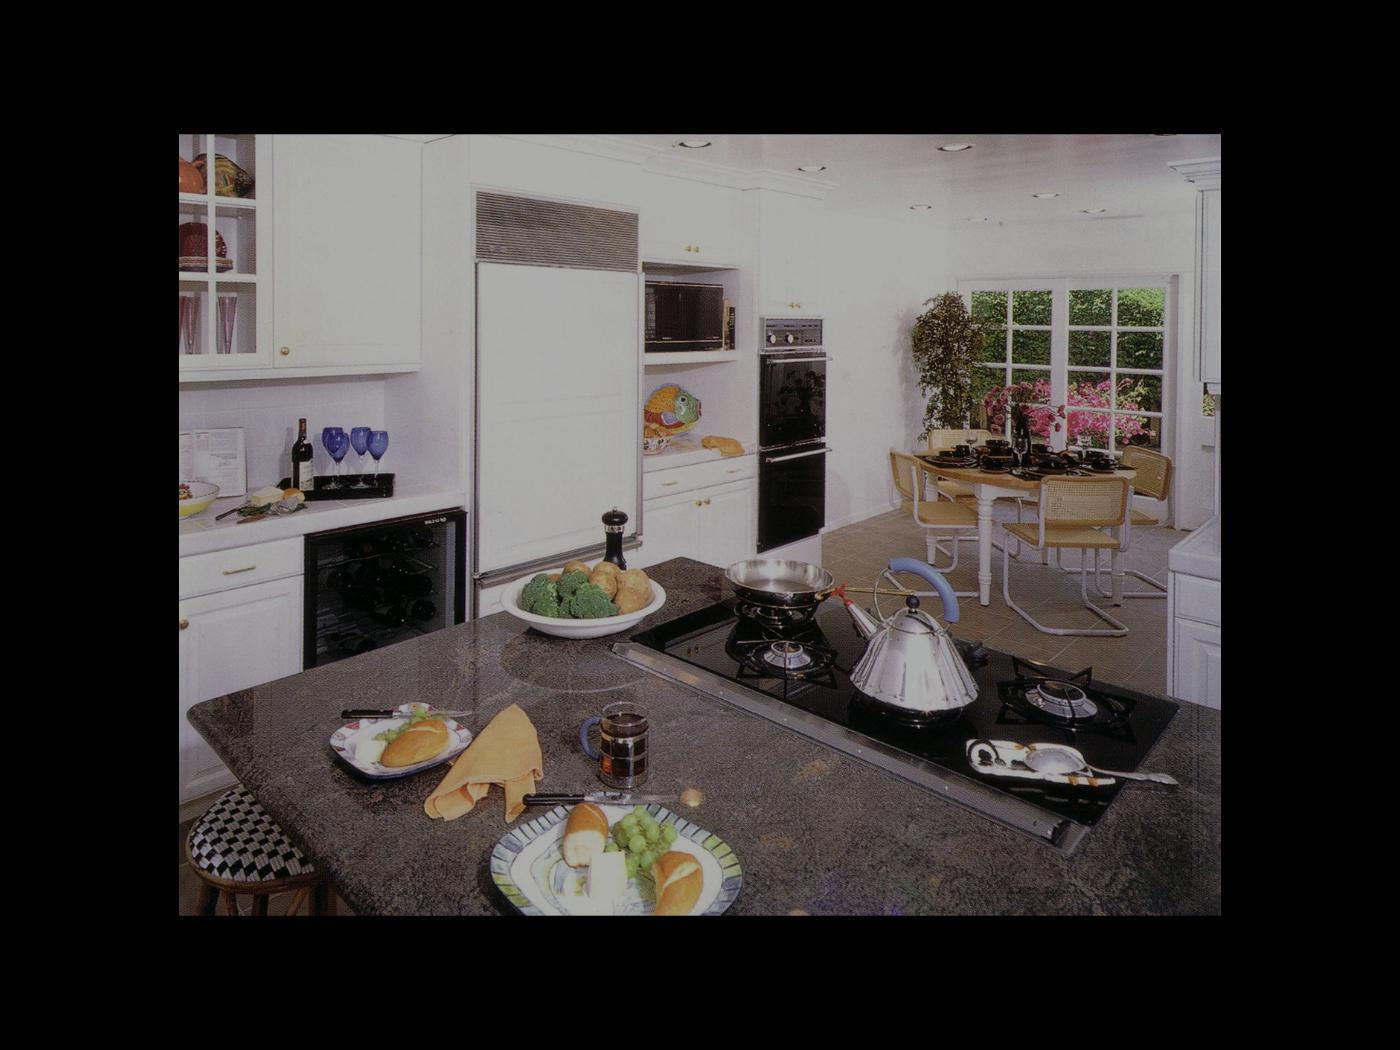Electrodomestico: (663, 594, 1175, 846), (478, 254, 628, 543), (756, 341, 823, 532)
